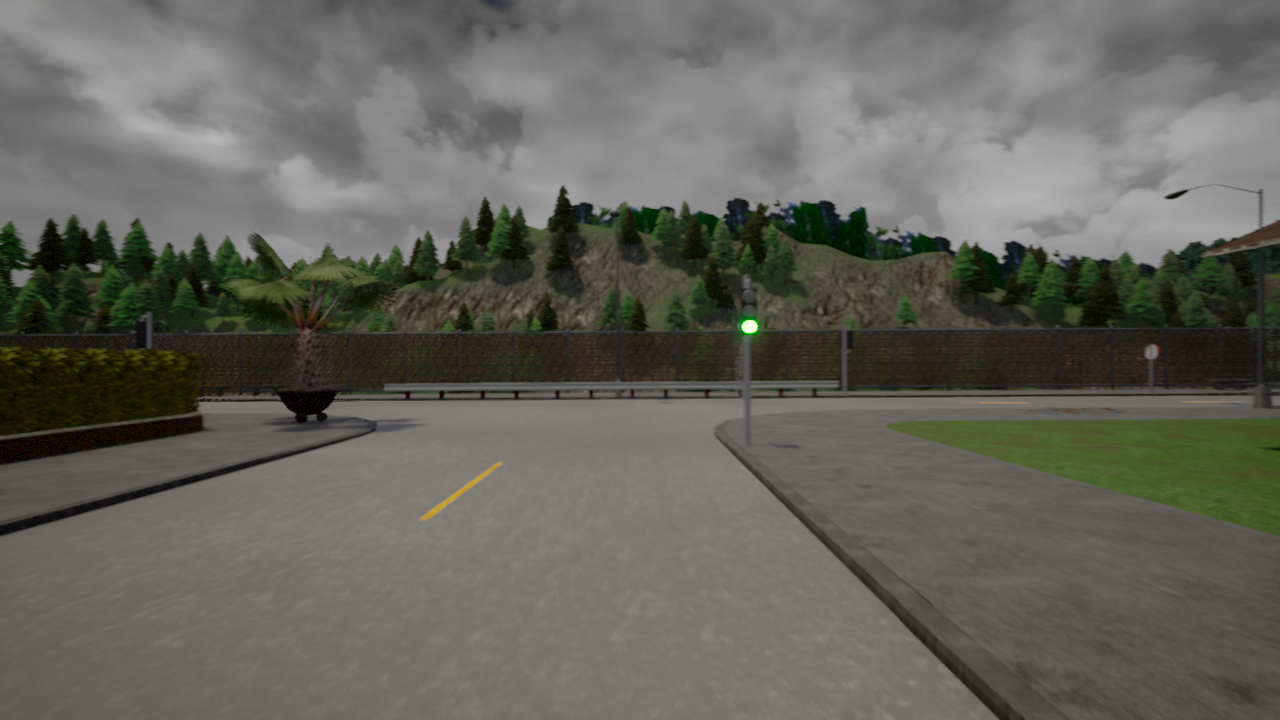green: (738, 285, 759, 338)
